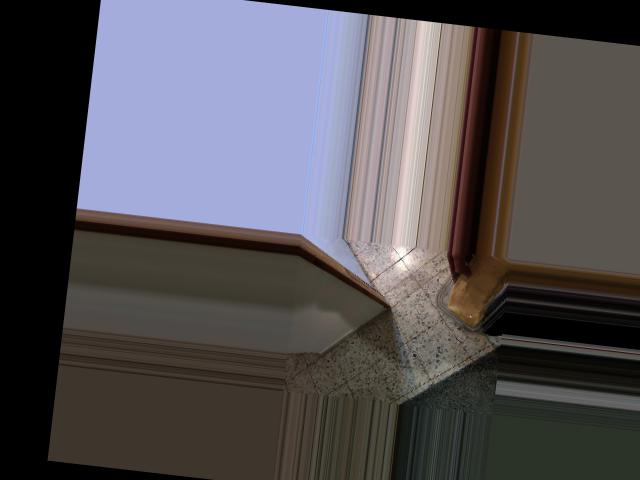cheese: (434, 249, 512, 334)
